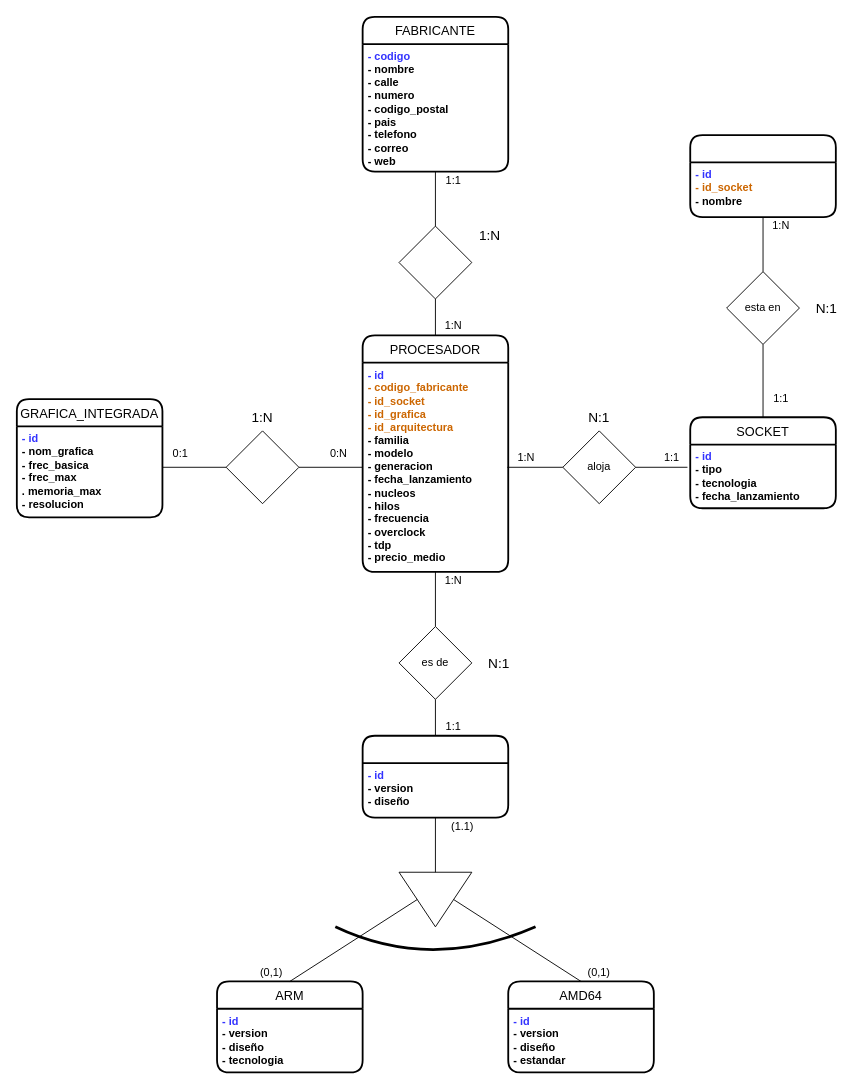
Some shapes in this 860 by 1088 pixel diagram are drawn without their labels. The shapes that lost their labels are listed below. From the top down, each one's box as (x1, y1, x2, y2) in pixels, then its label:
(689, 134, 836, 217): PLACA_BASE
(398, 225, 472, 299): crea
(225, 430, 299, 504): tiene
(361, 734, 509, 818): ARQUITECTURA
